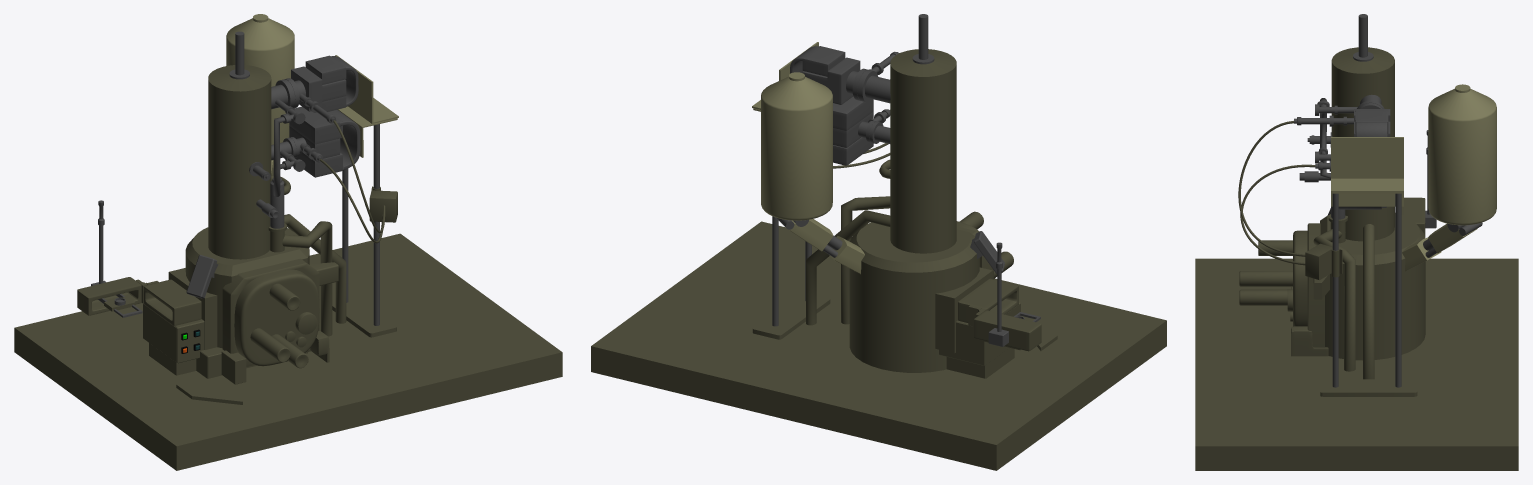
File: SEMStilyzed.fbx
3 views of the same model, side by side, from view 1: azimuth 30°, elevation 25°; view 2: azimuth 150°, elevation 25°; view 3: azimuth 270°, elevation 25° (orthographic). The views are drawn at different scales.
Visible parts, largest first — view 1: SEM-Exterior; view 2: SEM-Exterior; view 3: SEM-Exterior.
Boxes of the visible parts, x1,y1,x2,y2 form: SEM-Exterior: [14, 14, 562, 470]; SEM-Exterior: [591, 14, 1166, 470]; SEM-Exterior: [1195, 14, 1518, 470].
Size of the model in its own units: 145 by 122 by 106.
